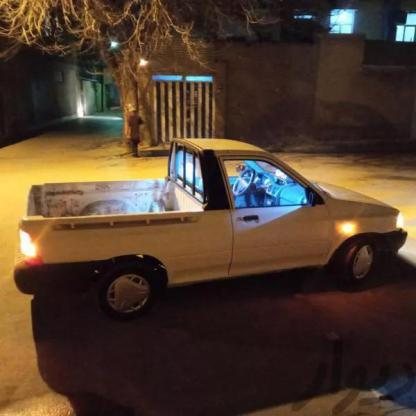Car: (0, 134, 404, 309)
